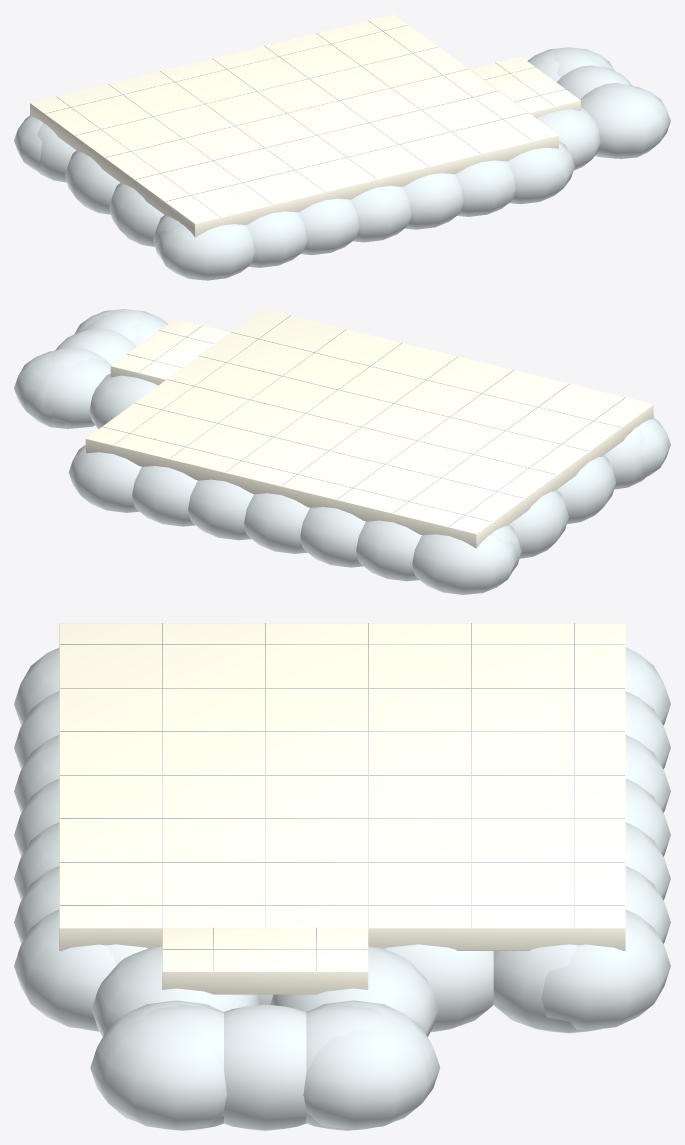
The model's file is sky_sector_market.glb.
3 renders of one model, top to bottom at view 1: azimuth 30°, elevation 25°; view 2: azimuth 150°, elevation 25°; view 3: azimuth 270°, elevation 25°, orthographic. The views are drawn at different scales.
Visible parts, largest first — view 1: sky_sector_market_surface; view 2: sky_sector_market_surface; view 3: sky_sector_market_surface.
Part boxes in pixels (bbox=[...]): sky_sector_market_surface: bbox=[14, 14, 670, 280]; sky_sector_market_surface: bbox=[14, 309, 670, 594]; sky_sector_market_surface: bbox=[14, 623, 670, 1130].
Bounding box in the file's own units: 40.4 × 4.97 × 25.52.
